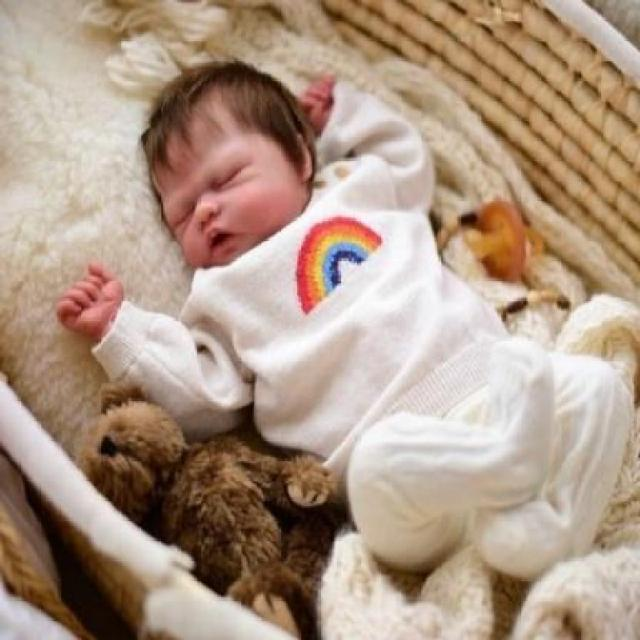baby: (55, 57, 621, 571)
